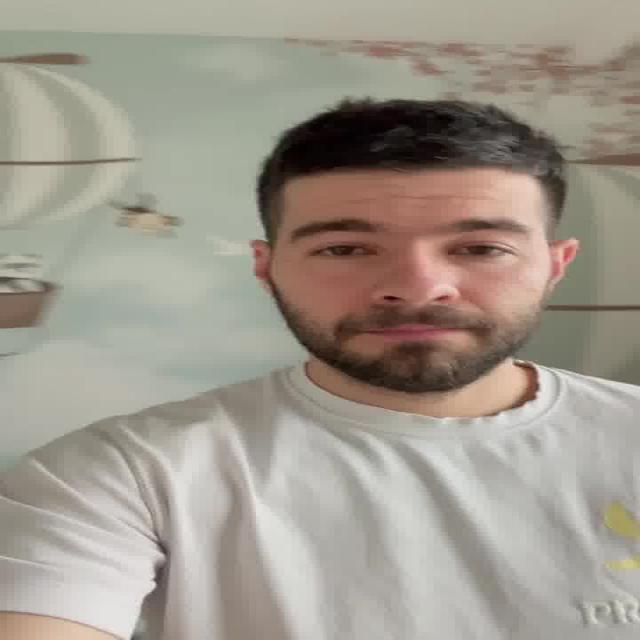earlobe: (545, 238, 580, 292), (249, 240, 275, 290)
